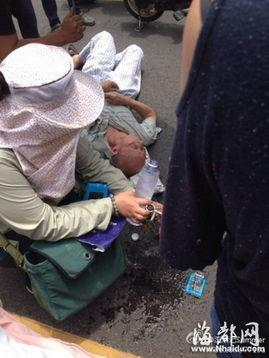Fall-Detected: (67, 30, 164, 175)
